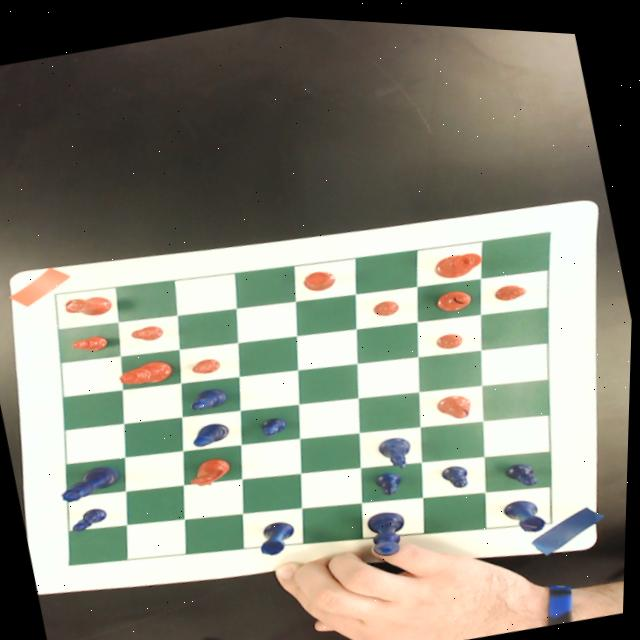B: (190, 416, 233, 446), (189, 382, 231, 412)
K: (364, 502, 414, 555)
N: (377, 428, 417, 470)
P: (69, 503, 112, 534), (439, 454, 475, 488), (504, 452, 543, 483), (374, 463, 409, 493), (259, 411, 291, 436)
Q: (57, 459, 125, 505)
R: (502, 487, 549, 533), (255, 514, 300, 557)
b: (434, 385, 475, 418), (434, 280, 477, 310)
k: (432, 242, 486, 278)
n: (185, 451, 235, 488)
p: (70, 330, 112, 356), (492, 274, 530, 297), (130, 320, 166, 343), (190, 353, 223, 374), (434, 325, 465, 346), (372, 293, 401, 313)
q: (118, 354, 176, 389)
r: (64, 290, 113, 321), (301, 262, 339, 291)
